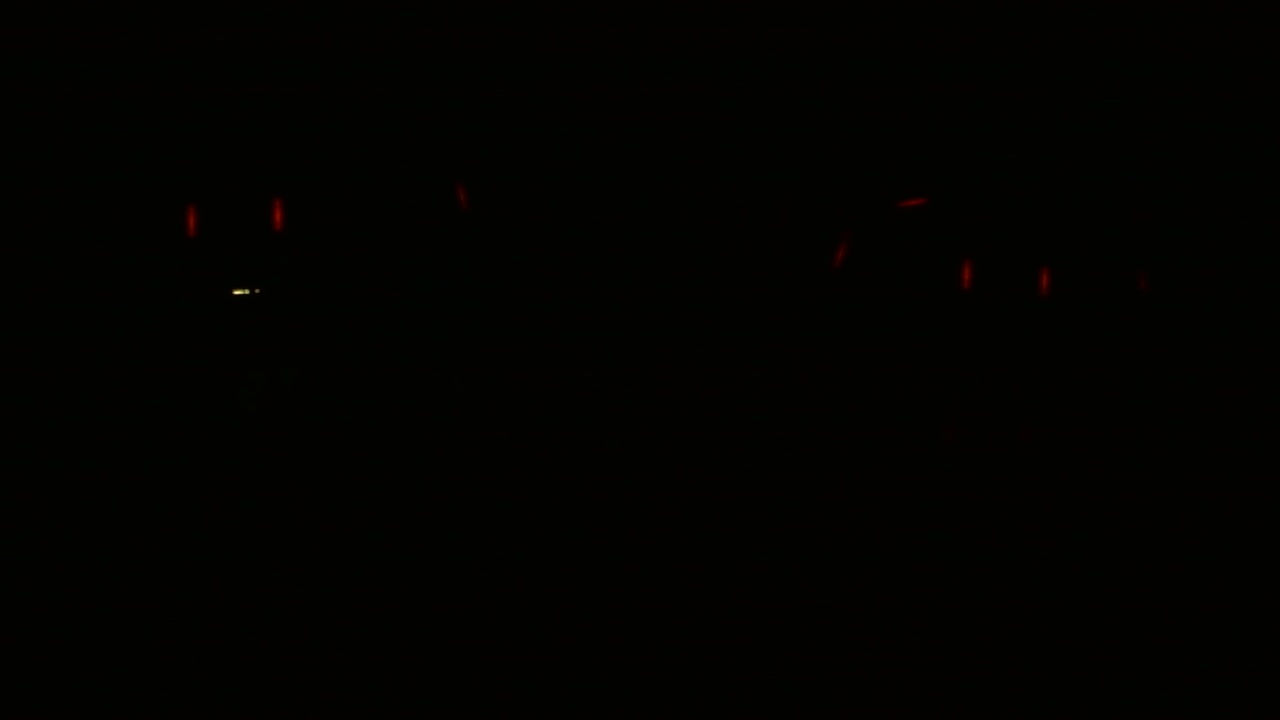pair1: (177, 196, 285, 237), (960, 256, 1052, 295)
